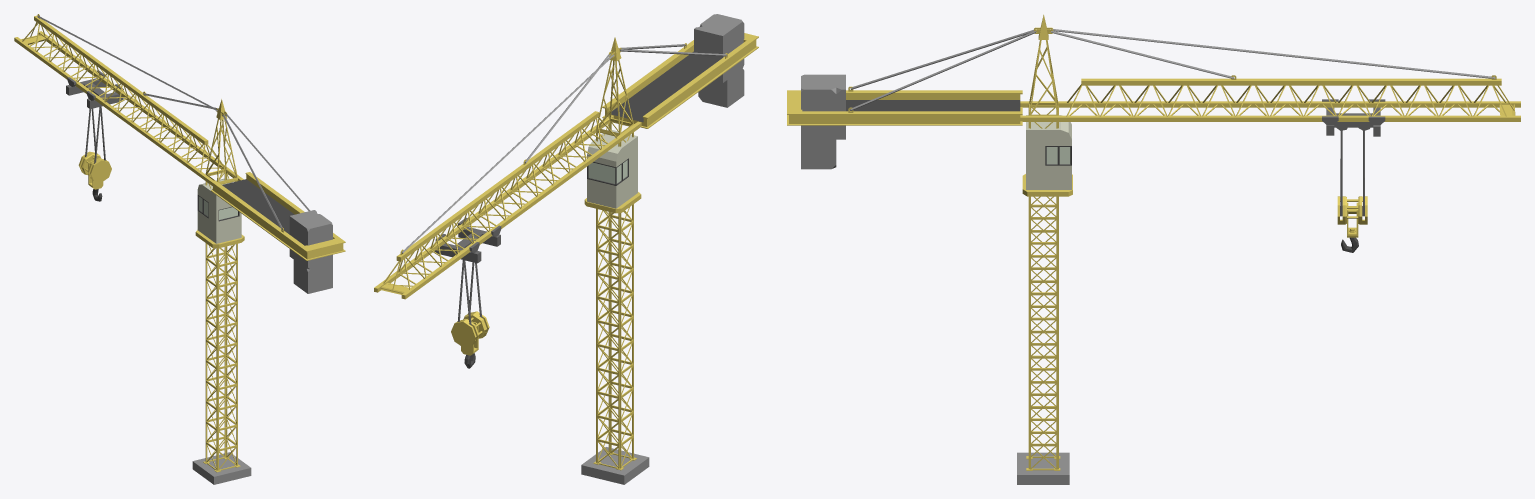
File: other-crane-277.glb
3 views of the same model, side by side, from view 1: azimuth 30°, elevation 25°; view 2: azimuth 150°, elevation 25°; view 3: azimuth 270°, elevation 25° (orthographic). The views are drawn at different scales.
Parts seen in each view (by area): view 1: Crane_Cylinder, Concrete_Cube.007; view 2: Crane_Cylinder, Concrete_Cube.007; view 3: Crane_Cylinder, Concrete_Cube.007.
Part boxes in pixels (x1,y1,x2,y2): Crane_Cylinder: (14,14,345,472); Concrete_Cube.007: (192,452,251,484); Crane_Cylinder: (374,14,758,470); Concrete_Cube.007: (581,447,649,484); Crane_Cylinder: (787,14,1520,470); Concrete_Cube.007: (1017,452,1069,484).
Size of the model in its own units: 1.6 by 14.61 by 21.13.
